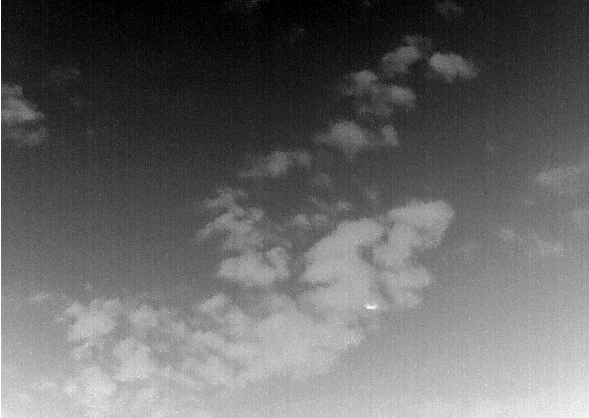dim target: (364, 304, 377, 310)
